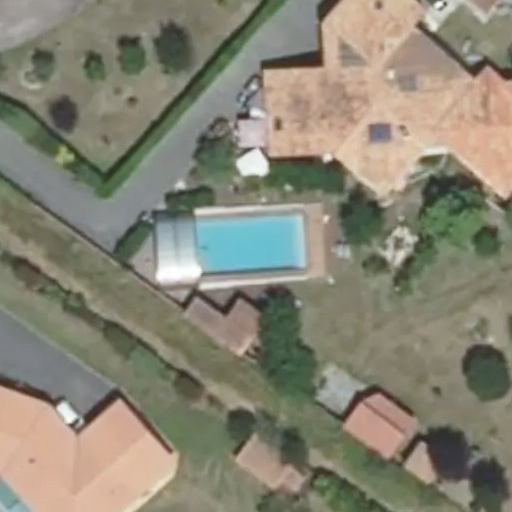pool: (200, 214, 311, 269)
